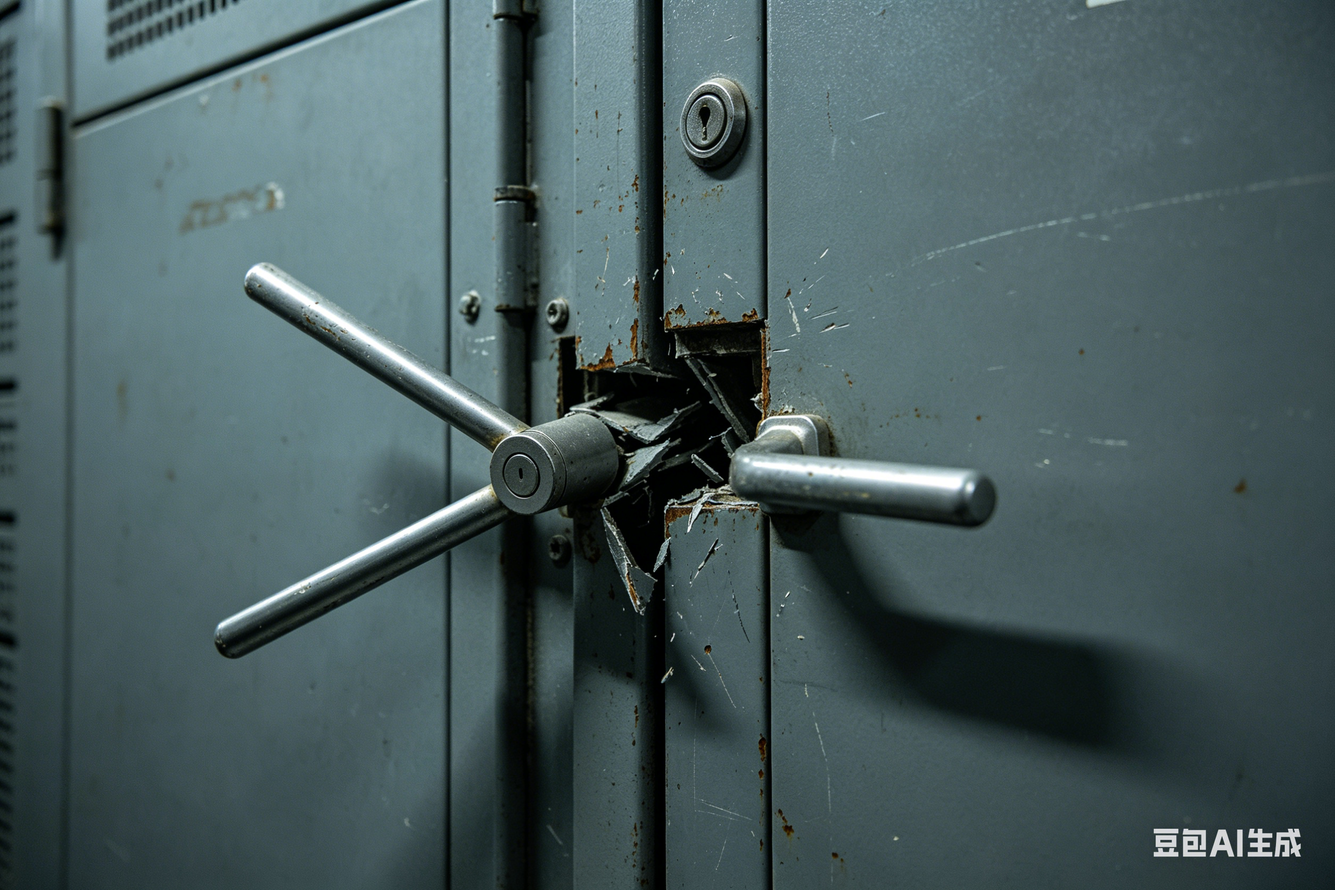BadLock: (540, 317, 786, 516)
